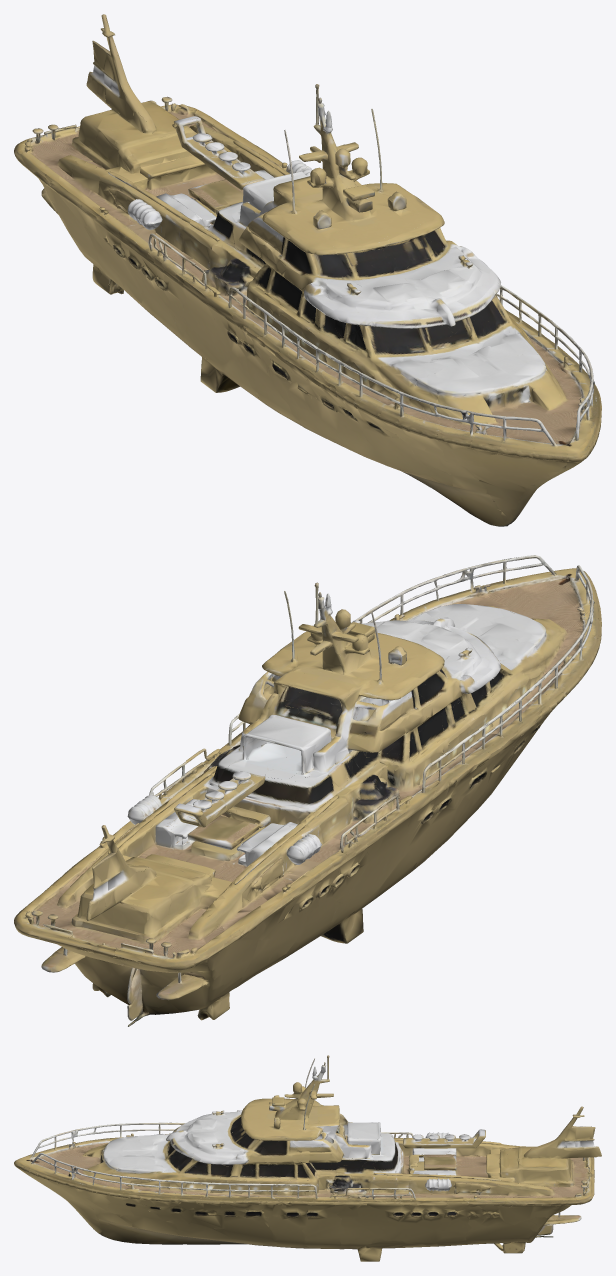
Rendered from abyssal-carrier.glb.
The picture shows the model from 3 angles, top to bottom: view 1: azimuth 30°, elevation 25°; view 2: azimuth 150°, elevation 25°; view 3: azimuth 270°, elevation 25°; orthographic projection. The views are drawn at different scales.
Parts seen in each view (by area): view 1: abyssal-carrier; view 2: abyssal-carrier; view 3: abyssal-carrier.
Boxes of the visible parts, bbox=[...] form: abyssal-carrier: bbox=[14, 14, 601, 526]; abyssal-carrier: bbox=[14, 555, 601, 1026]; abyssal-carrier: bbox=[14, 1055, 601, 1261].
Bounding box in the file's own units: 15.24 × 21.32 × 60.02.
1 material, 1 textured.
